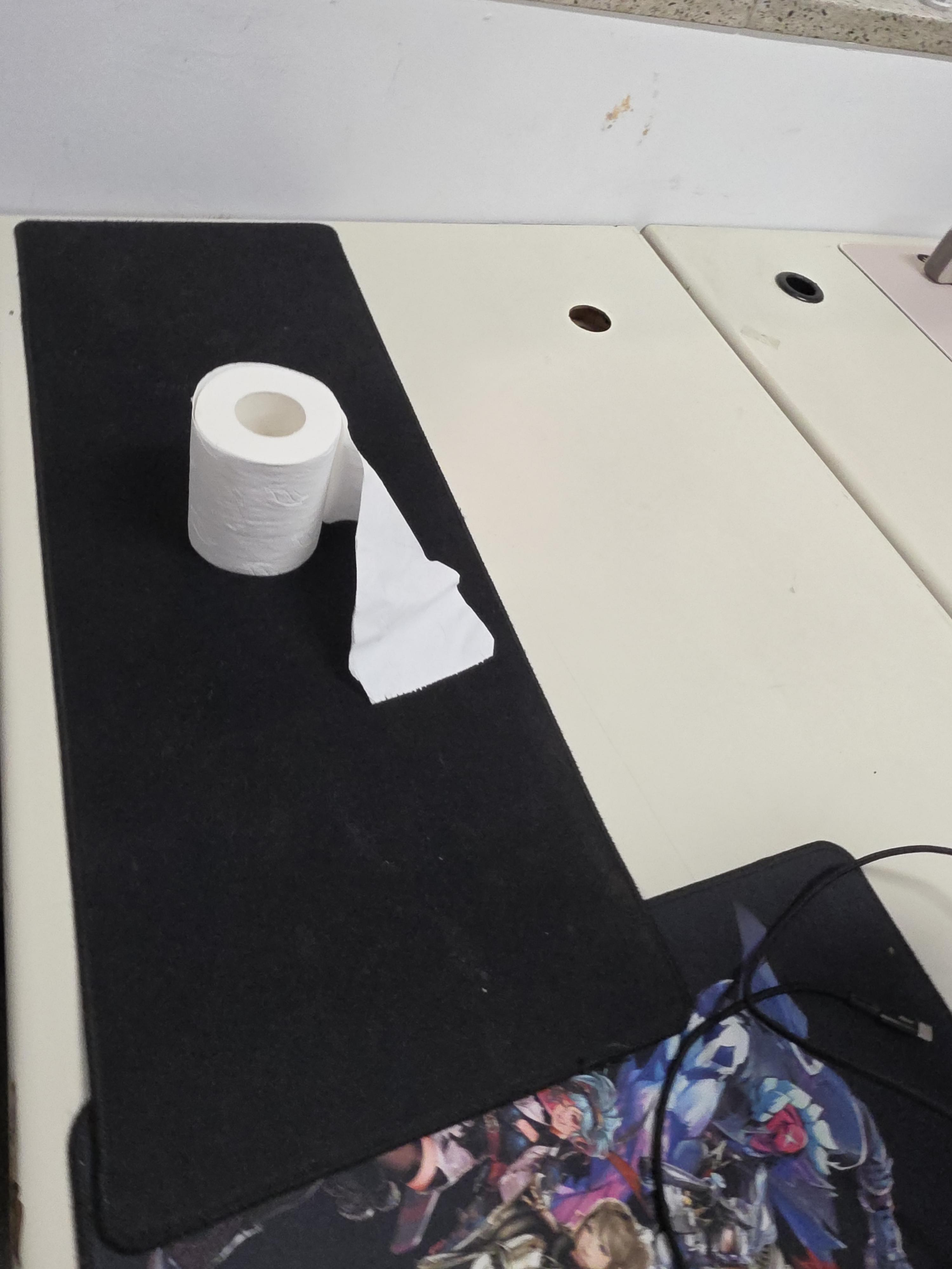tissue: (188, 361, 495, 705)
